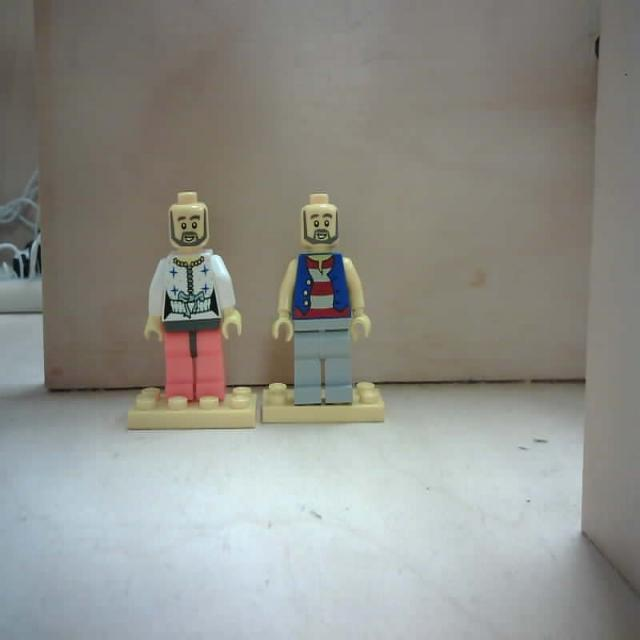Lego-People: (127, 189, 257, 435), (260, 193, 386, 426)
